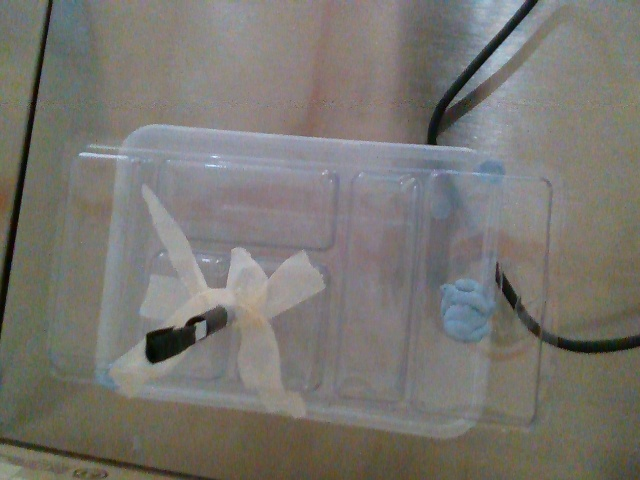test_strip: (143, 320, 206, 367)
